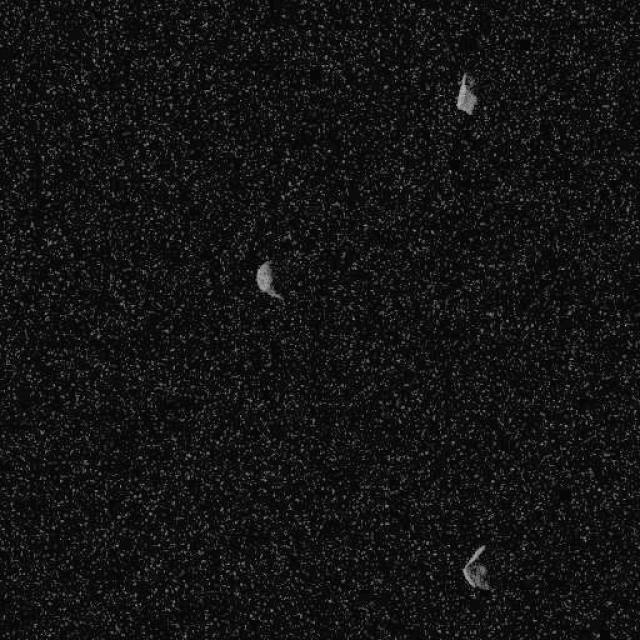D2: (462, 542, 492, 592), (255, 259, 284, 301), (453, 70, 478, 115)
